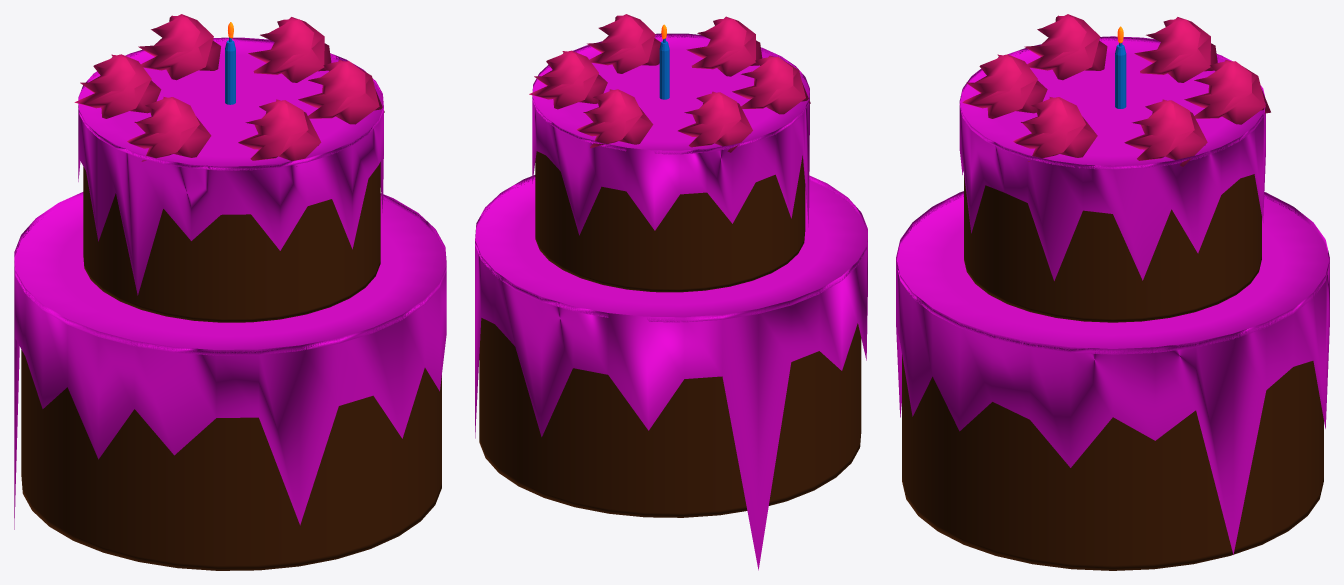
The model's file is cake2tired.glb.
3 views of the same model, side by side, from view 1: azimuth 30°, elevation 25°; view 2: azimuth 150°, elevation 25°; view 3: azimuth 270°, elevation 25° (orthographic). The views are drawn at different scales.
Visible parts, largest first — view 1: icing, Cylinder, icing.001, Cylinder.001, Star.003, Cylinder.003; view 2: icing, Cylinder, icing.001, Cylinder.001, Star.003, Cylinder.003; view 3: icing, Cylinder, icing.001, Cylinder.001, Star.003, Cylinder.003.
Part boxes in pixels (x1,y1,x2,y2): icing: [14, 192, 446, 529]; Cylinder: [21, 349, 441, 570]; icing.001: [78, 37, 383, 295]; Cylinder.001: [83, 162, 380, 322]; Star.003: [74, 14, 384, 166]; Cylinder.003: [225, 37, 235, 104]; icing: [475, 175, 867, 570]; Cylinder: [479, 318, 861, 517]; icing.001: [532, 33, 809, 235]; Cylinder.001: [535, 151, 805, 292]; Star.003: [529, 14, 810, 152]; Cylinder.003: [659, 38, 669, 99]; icing: [896, 191, 1329, 554]; Cylinder: [902, 355, 1323, 570]; icing.001: [959, 36, 1265, 280]; Cylinder.001: [964, 174, 1261, 322]; Star.003: [962, 14, 1270, 166]; Cylinder.003: [1115, 43, 1126, 108].
Size of the model in its own units: 2.06 by 2.73 by 2.06.
